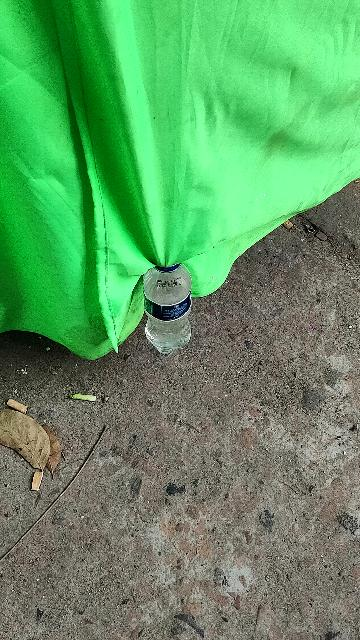bottle: (136, 264, 201, 372)
